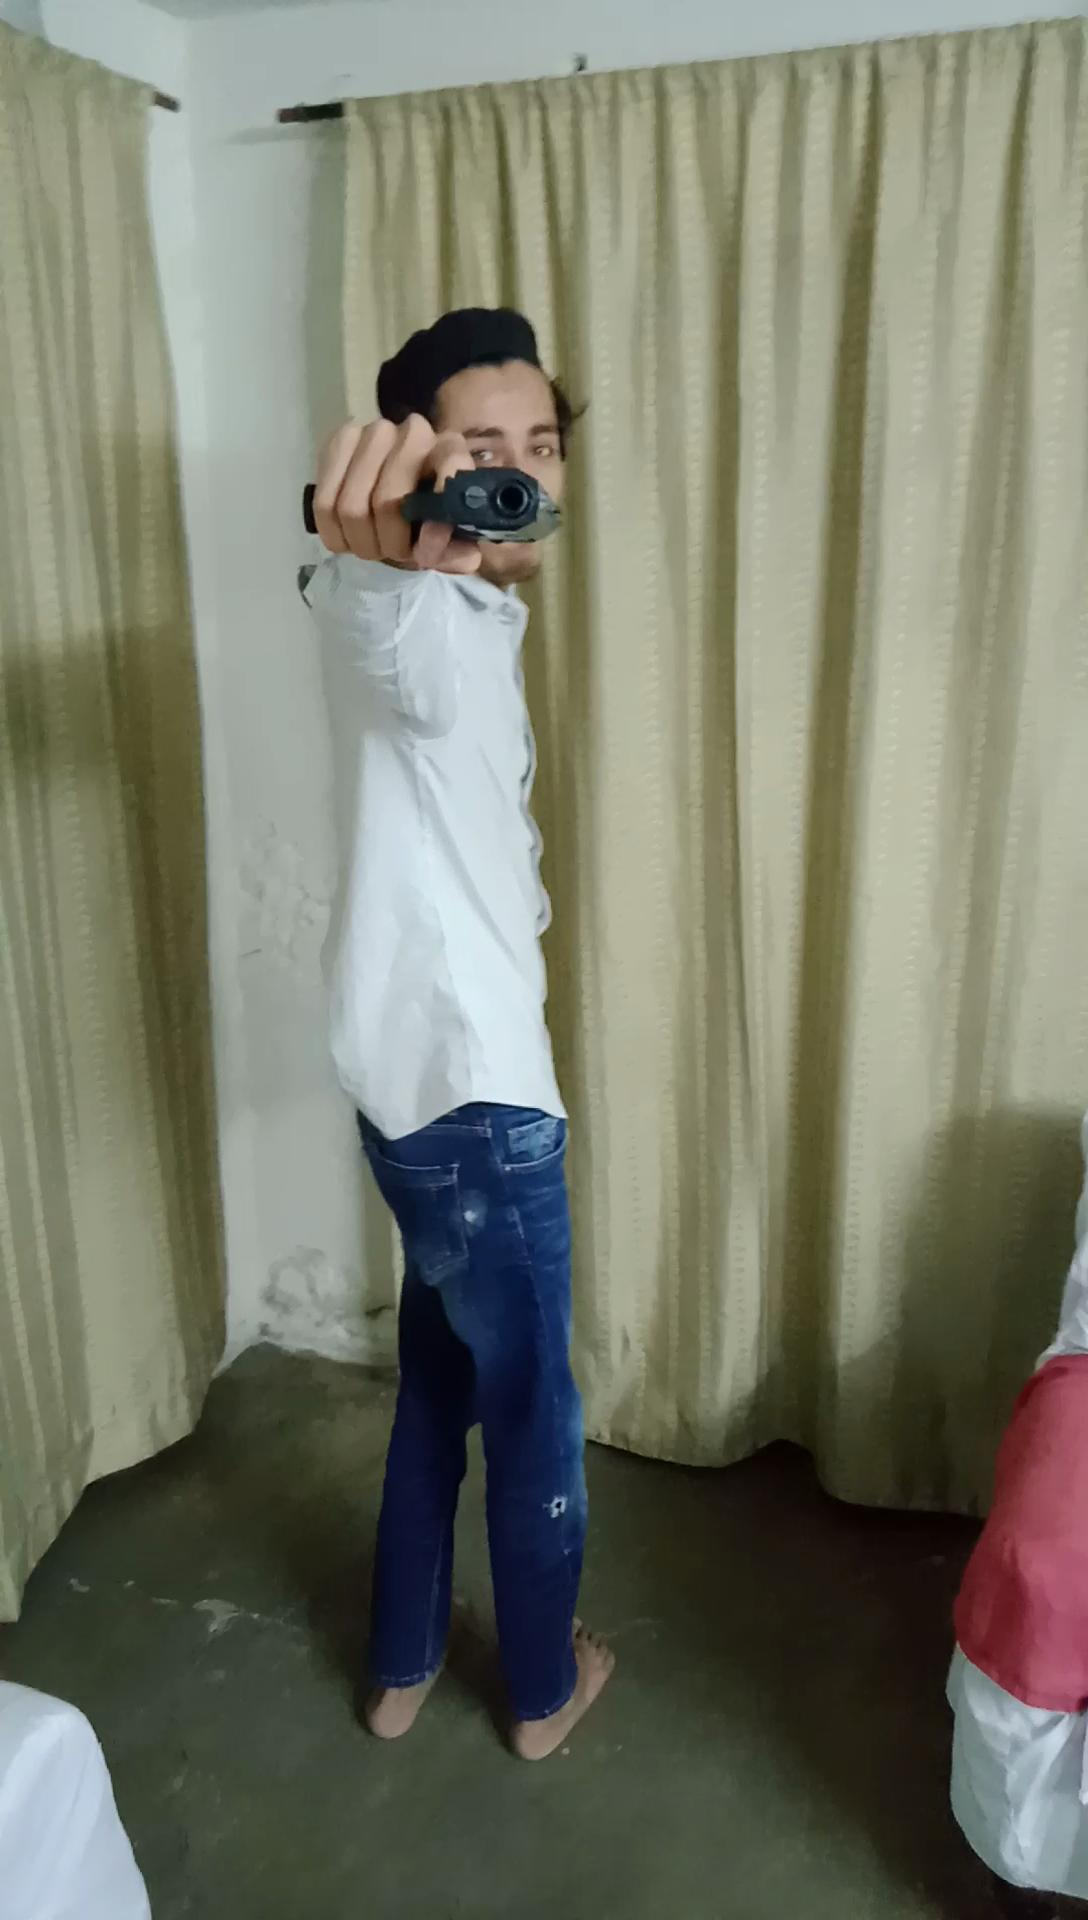criminal: (291, 301, 641, 1768)
weapon: (295, 436, 576, 568)
